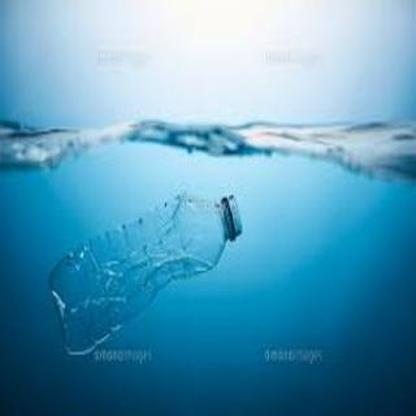plastic bottle: (50, 190, 245, 355)
